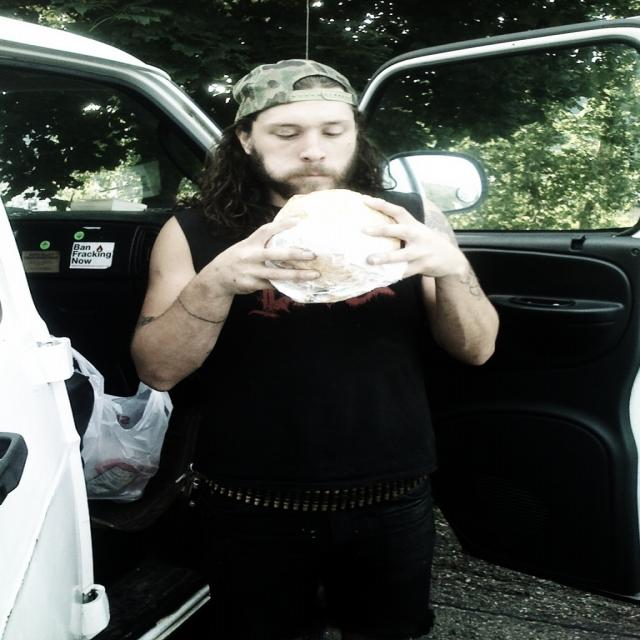other: (0, 18, 639, 640)
